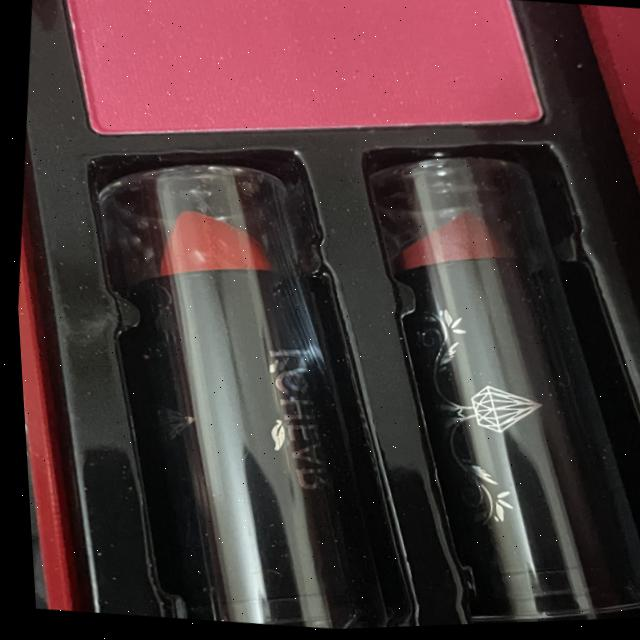blush: (42, 0, 567, 162)
lip stick: (47, 130, 385, 639), (325, 137, 640, 631)
